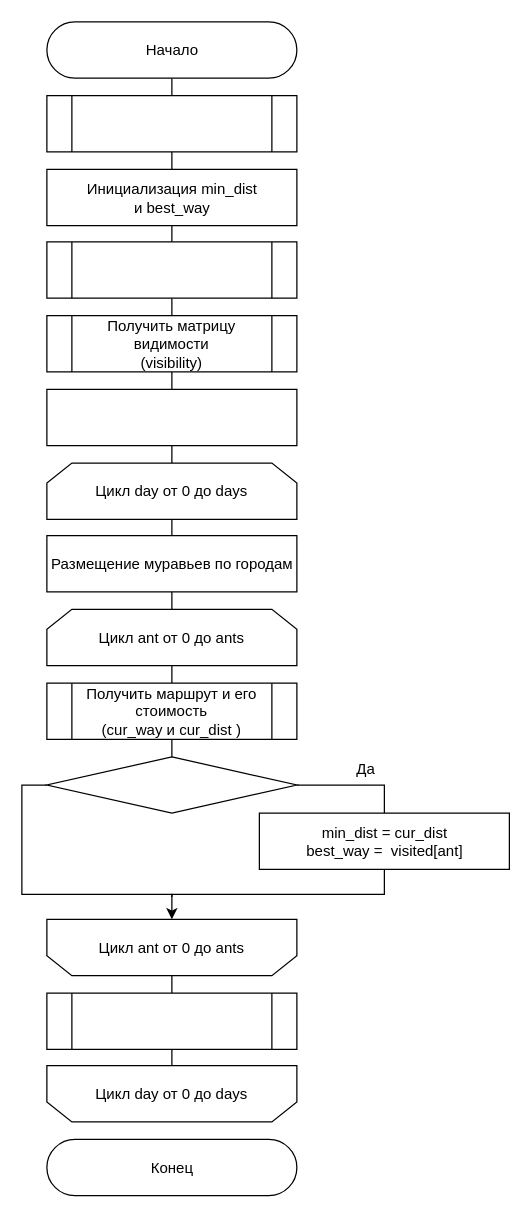
Some shapes in this 531 by 1218 pixel diagram are drawn without their labels. Here are the shapes that lost their labels. From the top down, the centre of each, then its label:
At [171,123]: "Вычислить Q".
At [171,269]: "Получить матрицу феромонов (pheromones)".
At [171,417]: "ants = places (кол-во муравьев = кол-ву городов)".
At [171,784]: "cur_dist < min_dist".
At [171,1020]: "Обновить матрицу феромонов".
